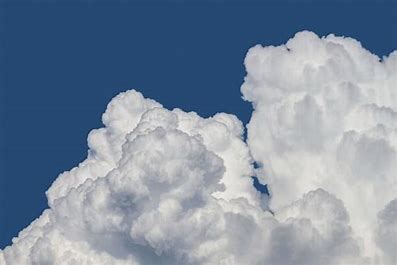Cumulus: (6, 69, 250, 263), (238, 23, 397, 261)
